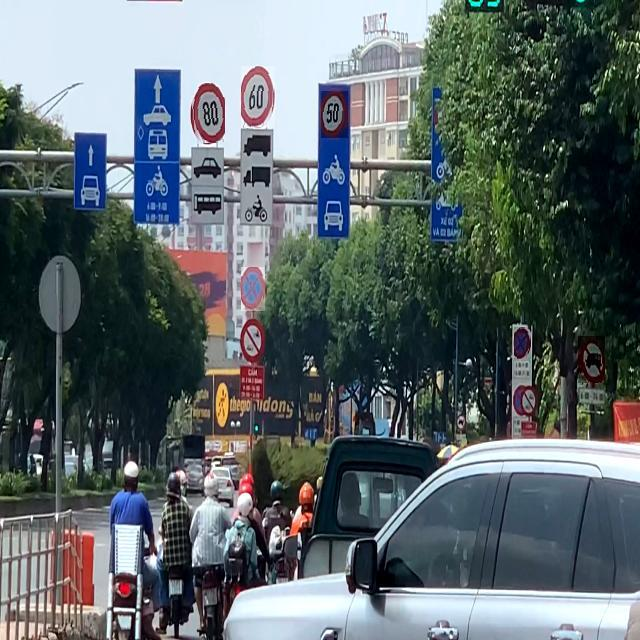P-106b: (578, 336, 605, 383), (456, 415, 466, 430)
P-127: (190, 83, 225, 144), (241, 66, 275, 128), (321, 91, 348, 138)
P-130: (241, 268, 265, 312), (514, 327, 531, 359)
